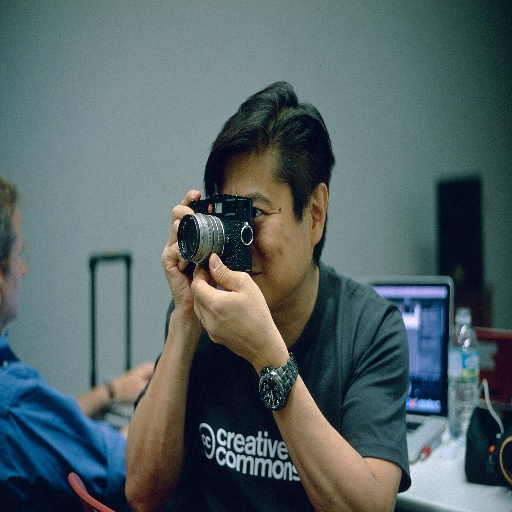hand: (197, 263, 291, 381), (159, 188, 217, 329), (111, 363, 154, 401)
